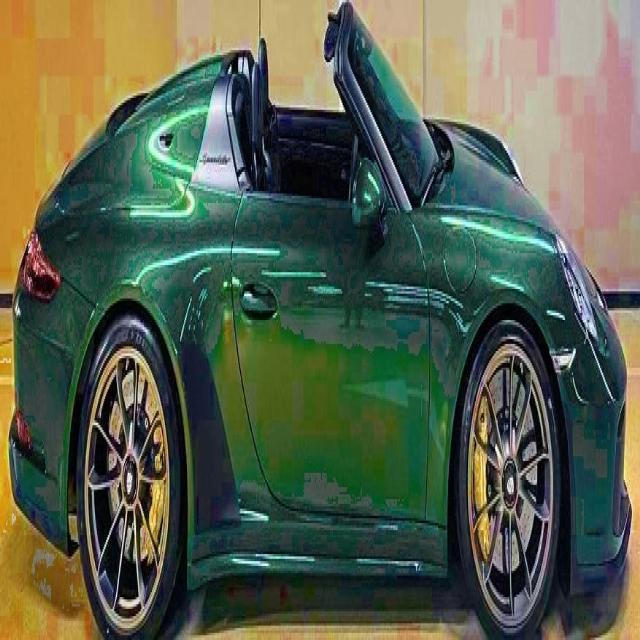green: (10, 2, 632, 640)
